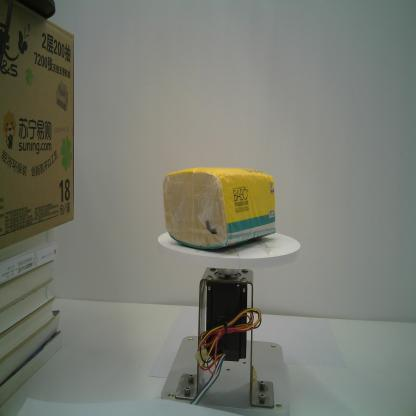Tissue: (162, 166, 276, 252)
